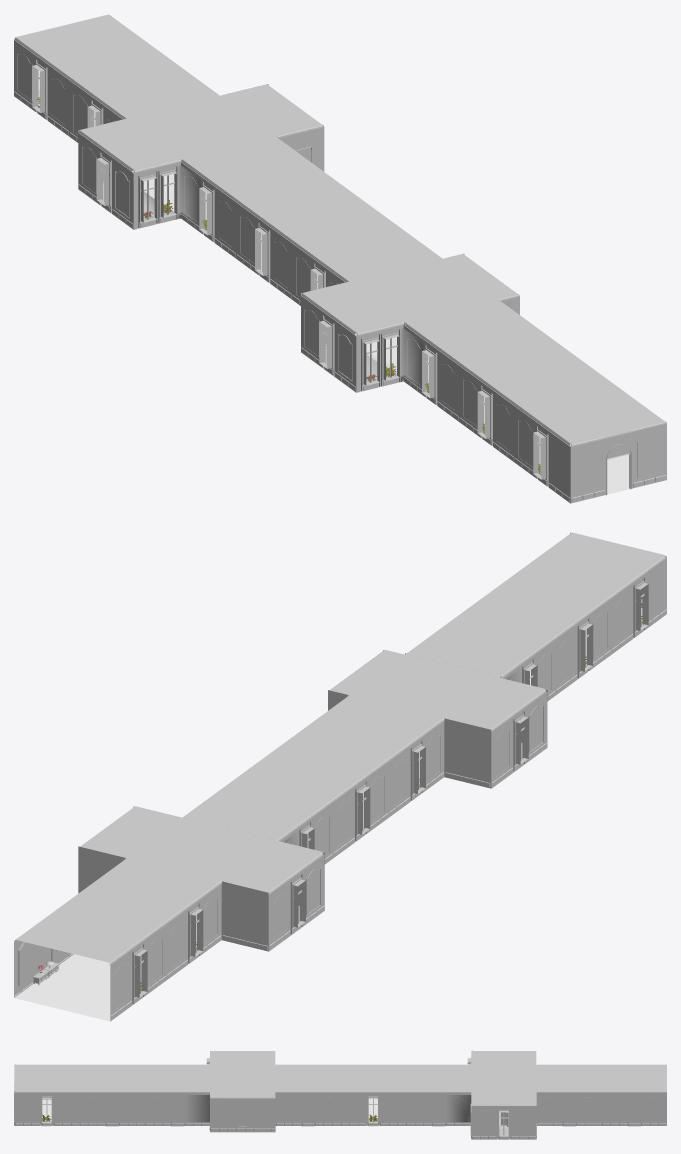
Rendered from geo_Hotel_Chunk4.FBX.
3 views of the same model, one above another, from view 1: azimuth 30°, elevation 25°; view 2: azimuth 150°, elevation 25°; view 3: azimuth 270°, elevation 25° (orthographic). The views are drawn at different scales.
Visible parts, largest first — view 1: geo_HotelRoom; view 2: geo_HotelRoom; view 3: geo_HotelRoom.
Part boxes in pixels (x1=…): geo_HotelRoom: x1=14, y1=14, x2=666, y2=503; geo_HotelRoom: x1=14, y1=532, x2=666, y2=1021; geo_HotelRoom: x1=14, y1=1050, x2=666, y2=1139.
Size of the model in its own units: 125 by 35.42 by 600.
Materials: 3 (1 with a texture image).
